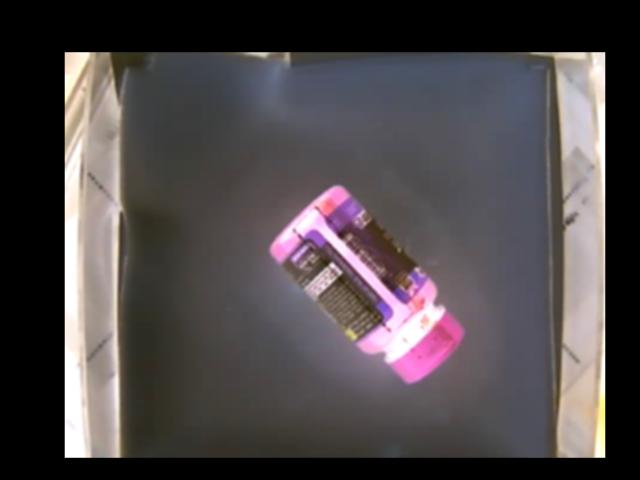Bottle: (269, 186, 464, 388)
